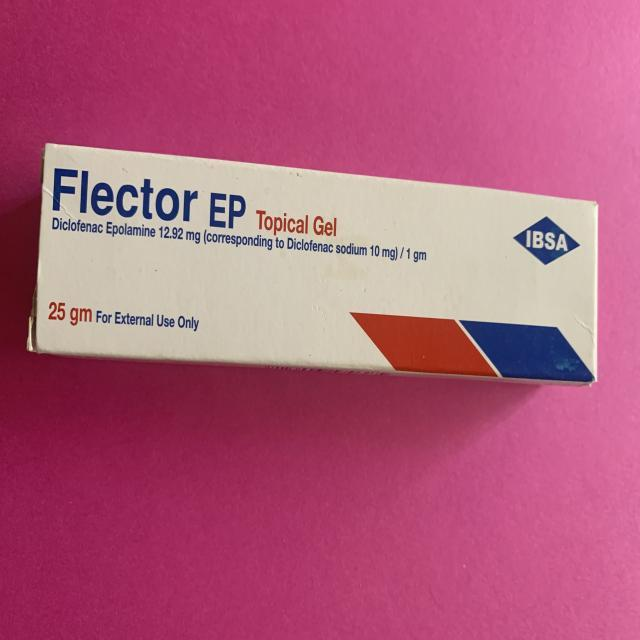Medicine Name: (52, 162, 206, 224)
